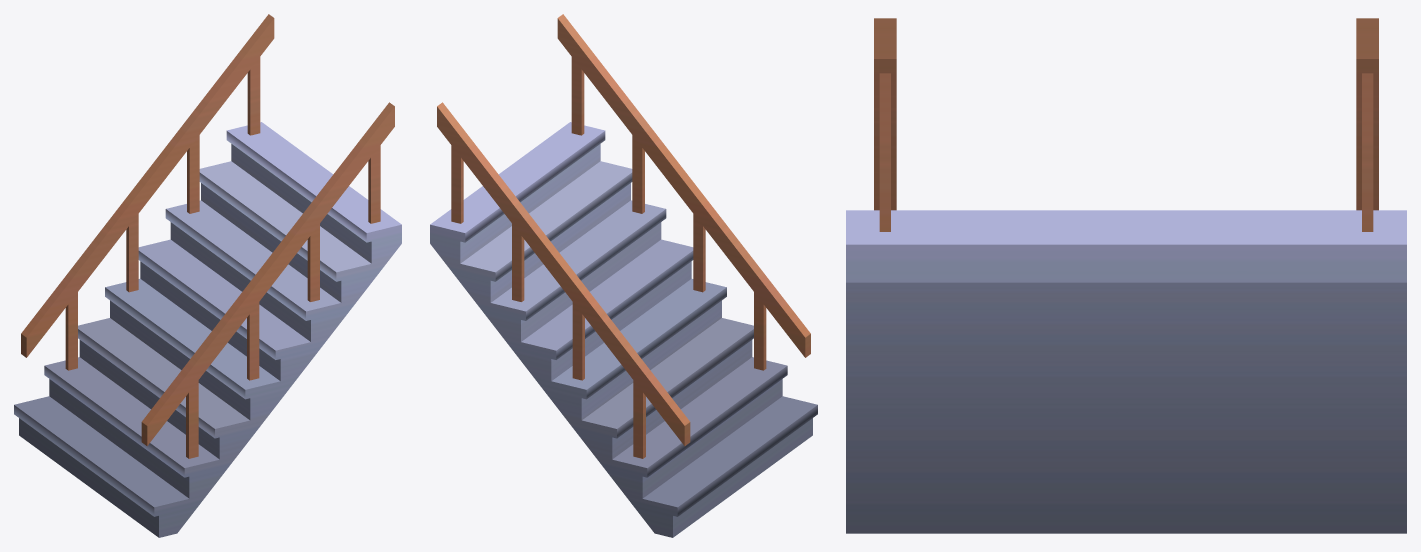
The model's file is stairs-wide-stone-handrail.glb.
3 renders of one model, left to right at view 1: azimuth 30°, elevation 25°; view 2: azimuth 150°, elevation 25°; view 3: azimuth 270°, elevation 25°, orthographic. The views are drawn at different scales.
Parts seen in each view (by area): view 1: stairs-wide-stone-handrail; view 2: stairs-wide-stone-handrail; view 3: stairs-wide-stone-handrail.
Part boxes in pixels (x1,y1,x2,y2): stairs-wide-stone-handrail: (14, 14, 401, 537); stairs-wide-stone-handrail: (430, 14, 817, 537); stairs-wide-stone-handrail: (846, 18, 1406, 533).
Size of the model in its own units: 1.02 by 1.45 by 1.
Materials: 1 (1 with a texture image).
